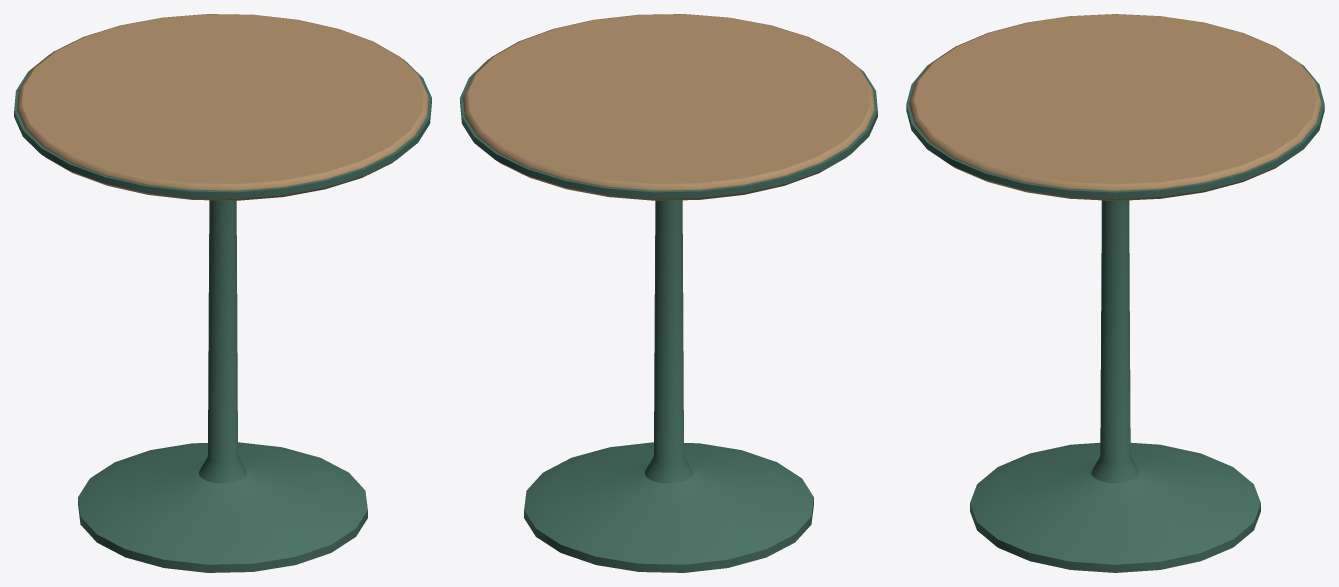
File: cafe_table.glb
3 views of the same model, side by side, from view 1: azimuth 30°, elevation 25°; view 2: azimuth 150°, elevation 25°; view 3: azimuth 270°, elevation 25° (orthographic).
Visible parts, largest first — view 1: top, base, rim; view 2: top, base, rim; view 3: top, base, rim.
Boxes of the visible parts, box(x1,y1,x2,y2) form: top: box(17, 14, 428, 200); base: box(78, 200, 367, 572); rim: box(14, 54, 431, 198); top: box(463, 14, 874, 200); base: box(524, 200, 813, 572); rim: box(460, 54, 877, 198); top: box(909, 14, 1321, 200); base: box(970, 200, 1260, 572); rim: box(906, 63, 1324, 199).
Bounding box in the file's own units: 0.69 × 0.75 × 0.69.
